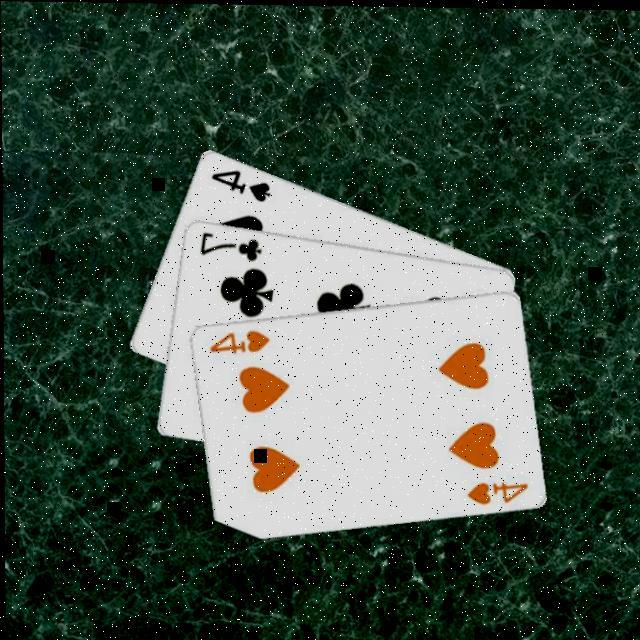4H: (463, 473, 531, 505), (206, 322, 272, 354)
4S: (208, 163, 274, 202)
7C: (197, 224, 264, 262)
